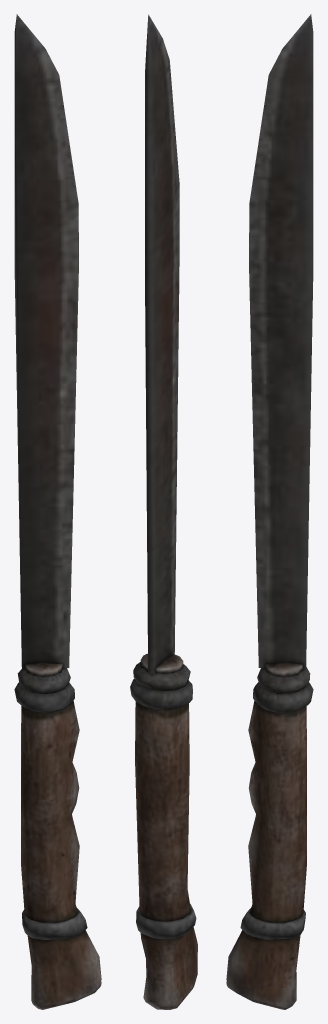
The model's file is machete.glb.
The picture shows the model from 3 angles, left to right: view 1: azimuth 90°, elevation 25°; view 2: azimuth 150°, elevation 25°; view 3: azimuth 270°, elevation 25°; orthographic projection.
Visible parts, largest first — view 1: machete; view 2: machete; view 3: machete.
Boxes of the visible parts, bbox=[...] form: machete: bbox=[14, 14, 101, 1009]; machete: bbox=[130, 14, 197, 1009]; machete: bbox=[226, 14, 313, 1009].
Size of the model in its own units: 0.0444 by 0.7542 by 0.0601.
1 material, 1 textured.
